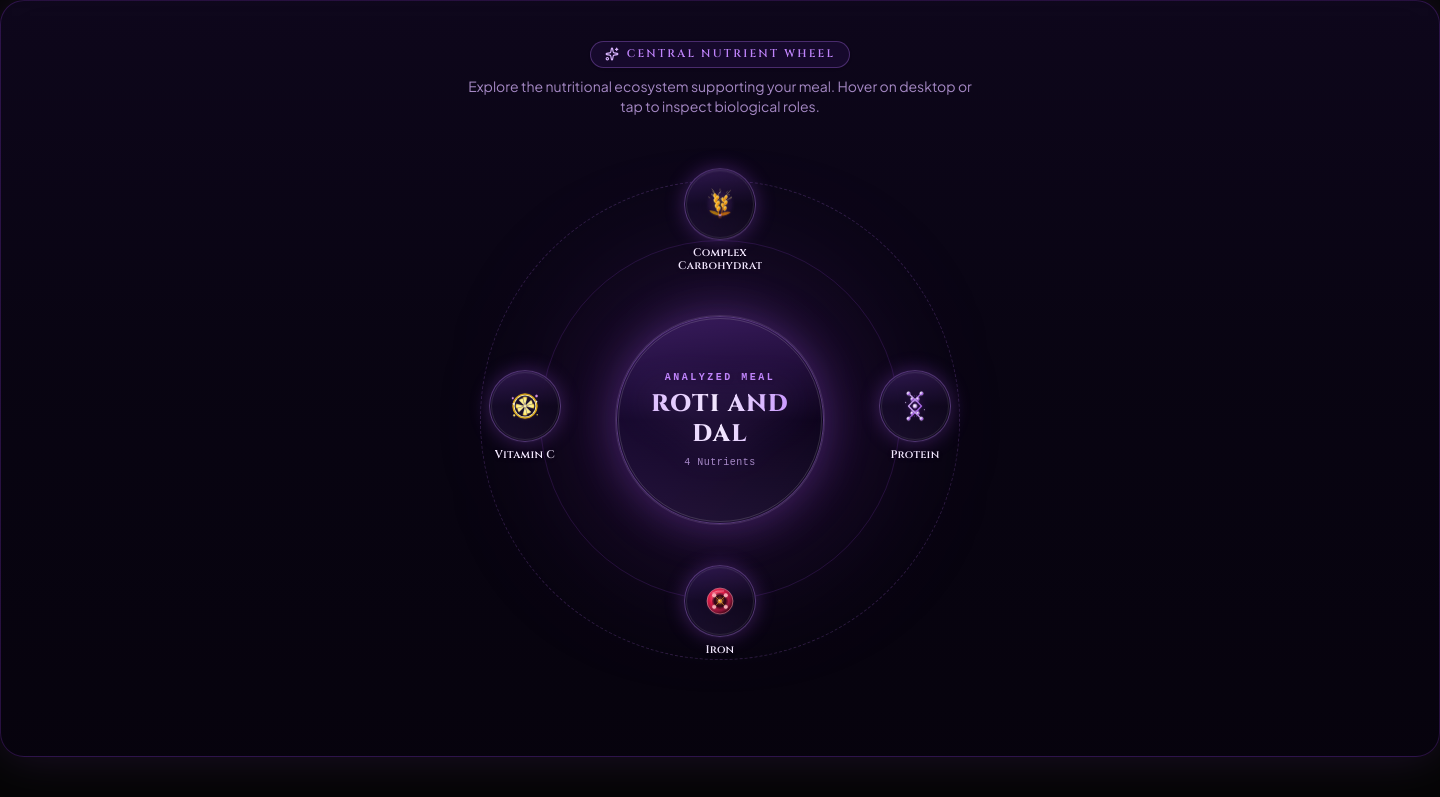
Test case: CentralNutrientWheel Component › pressing Escape key in detailed view restores the wheel view
This screenshot has width=1440, height=797.
Step 1. Click the button with aria-label "Explore Complex Carbohydrates" → (720, 221), box [678,168,762,273]
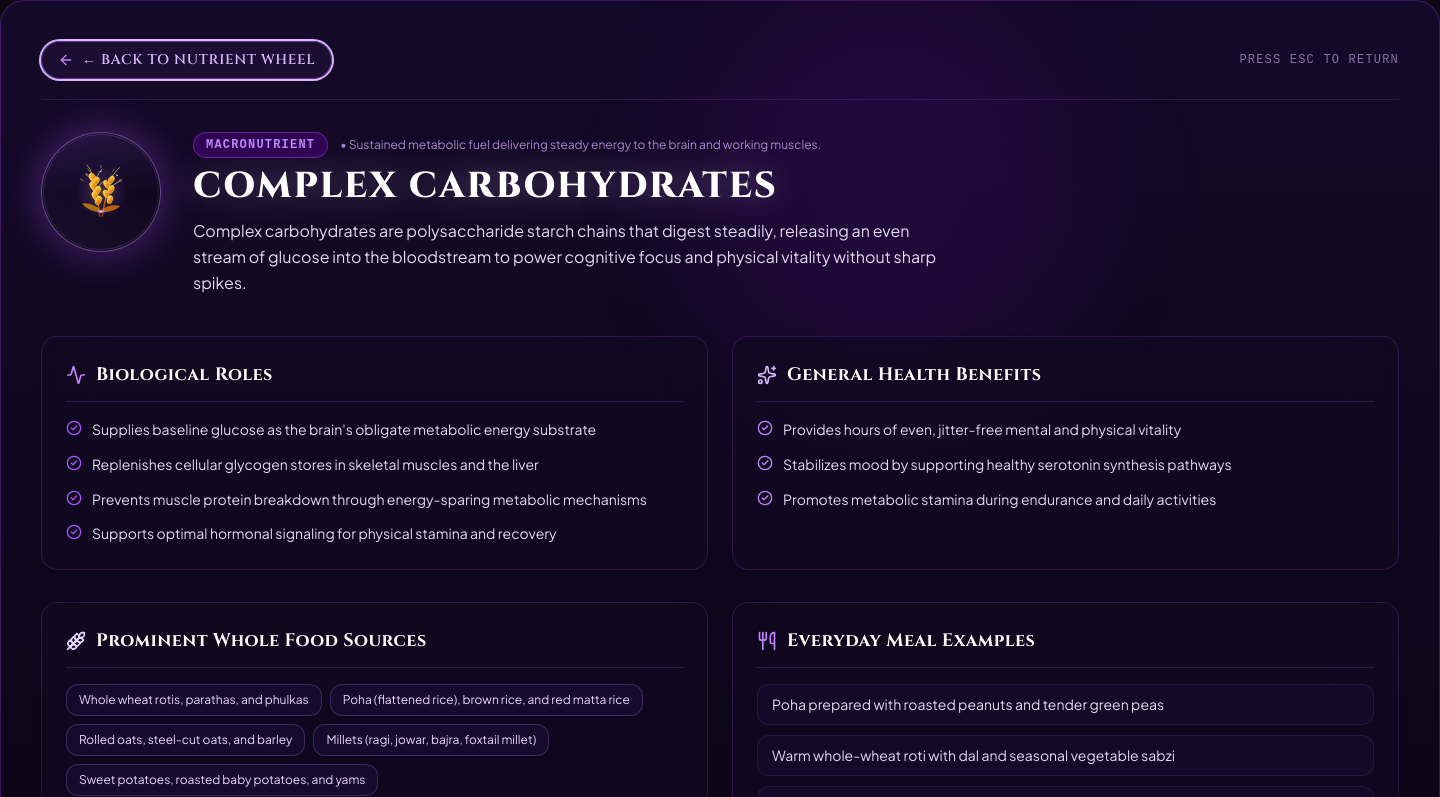
Now the heading "Complex Carbohydrates" is shown, box [193,162,778,210]
Press Escape
Step 2. Press Escape
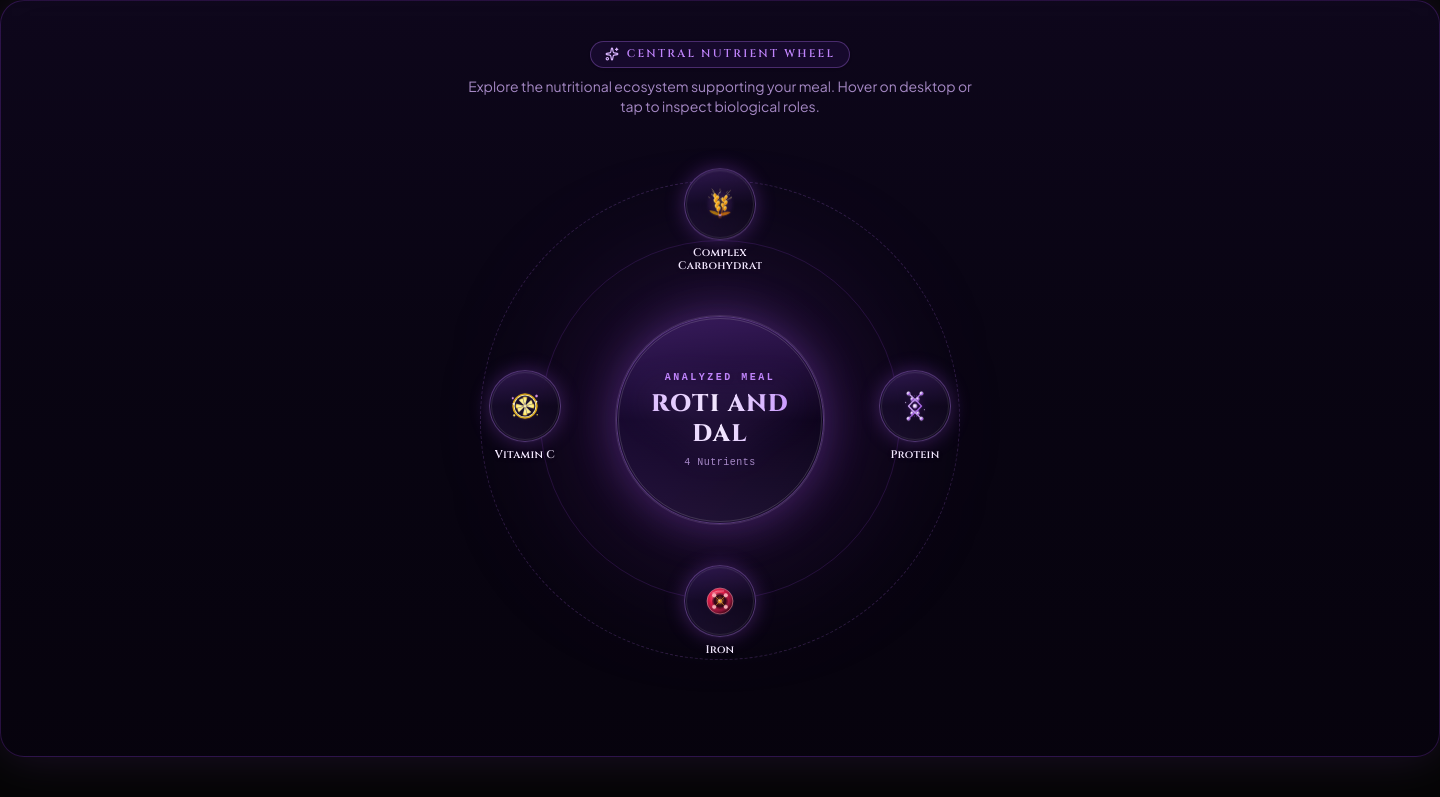
Now the heading with test id "central-meal-title" reads "ROTI AND DAL", box [651,388,789,450]
